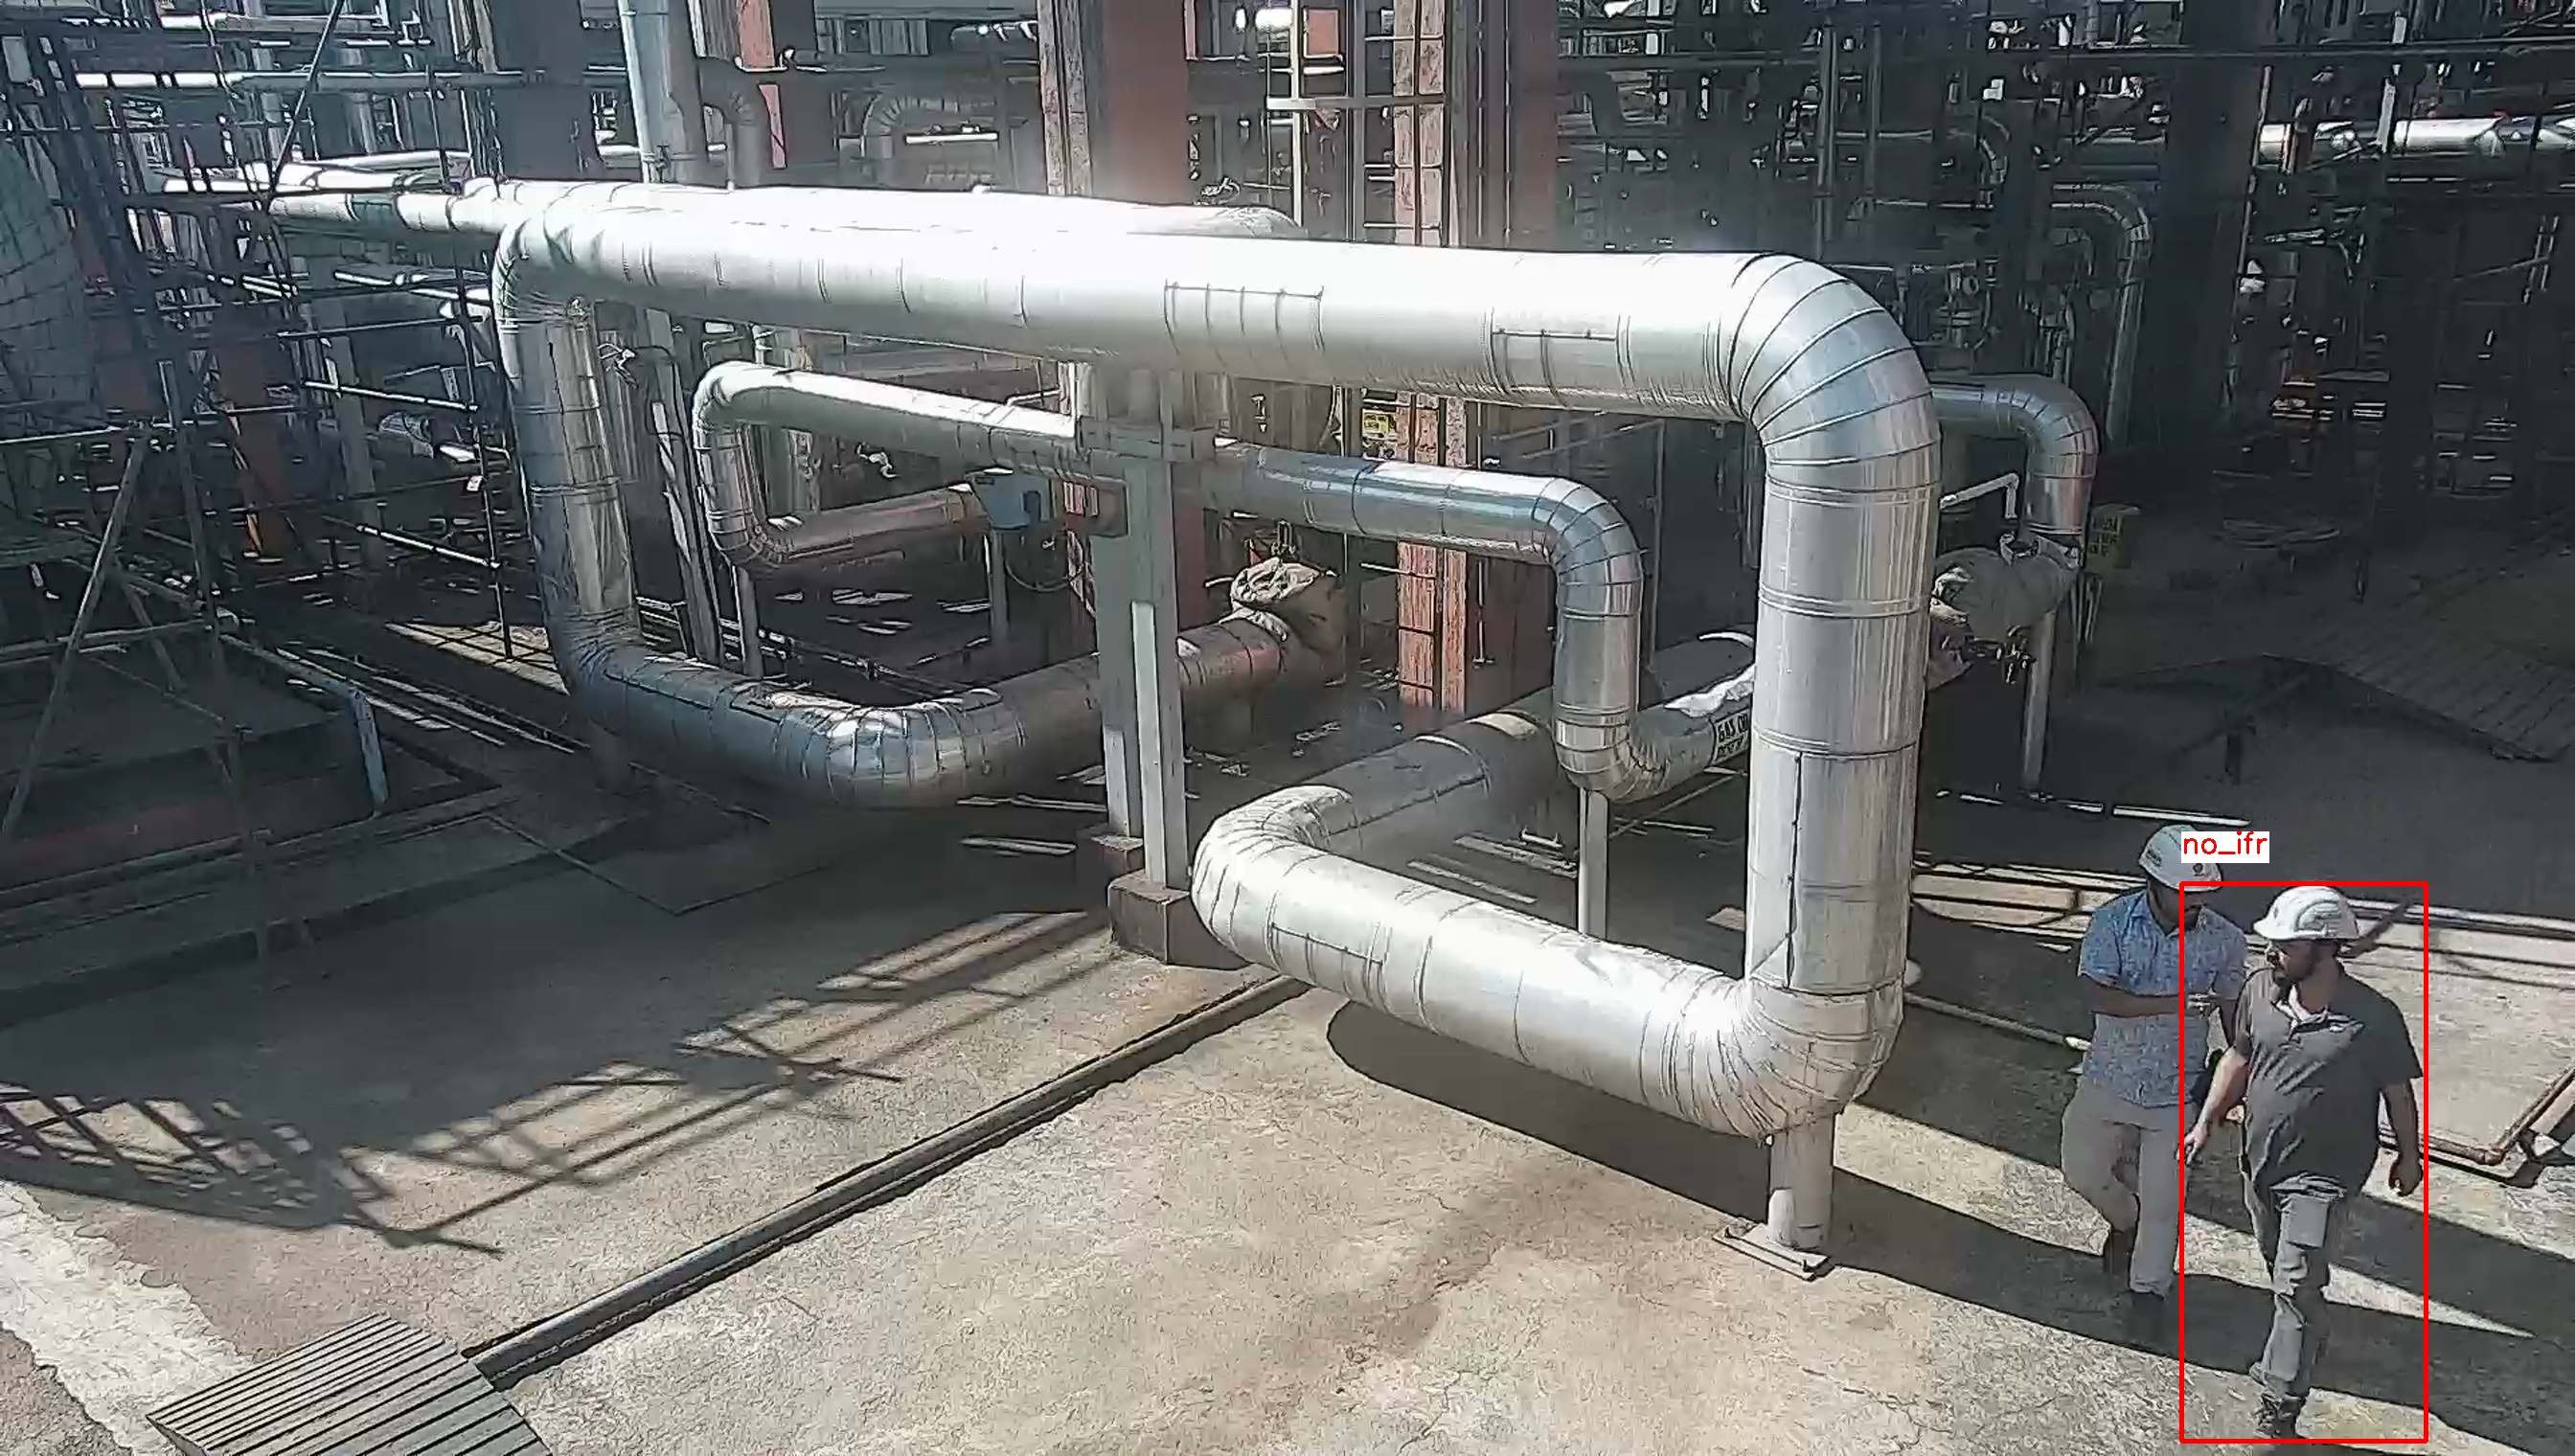Boots: (2235, 1396, 2311, 1456)
Helmets: (2251, 886, 2365, 952)
